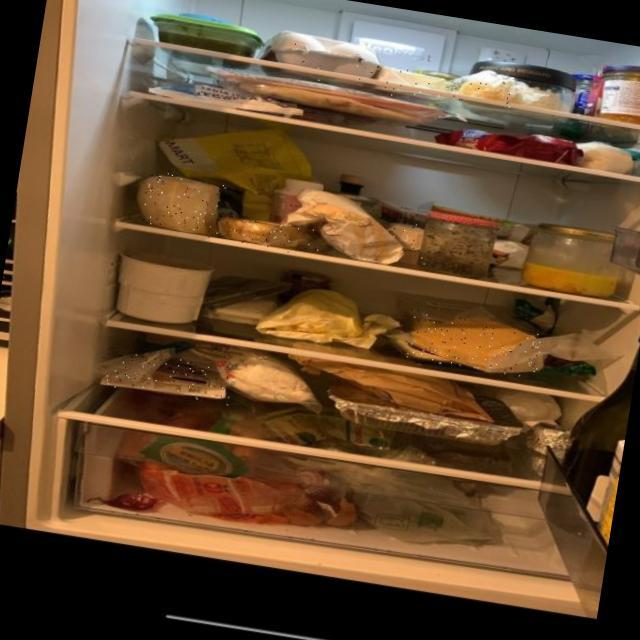Carne cerdo: (99, 346, 241, 407)
Huevos: (264, 26, 382, 90)
Mantequilla: (378, 66, 452, 105)
Queso: (402, 308, 543, 379), (138, 170, 231, 241), (222, 215, 328, 259), (384, 220, 438, 269)
